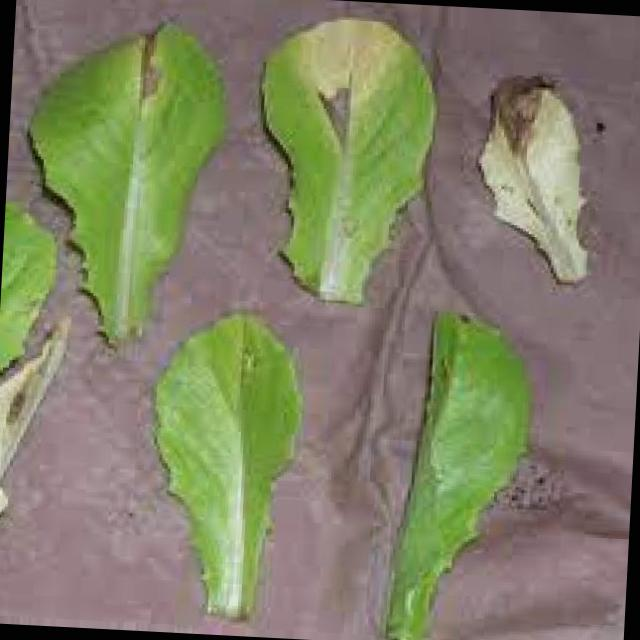Downy_mildew: (486, 86, 604, 281), (297, 43, 405, 188)
